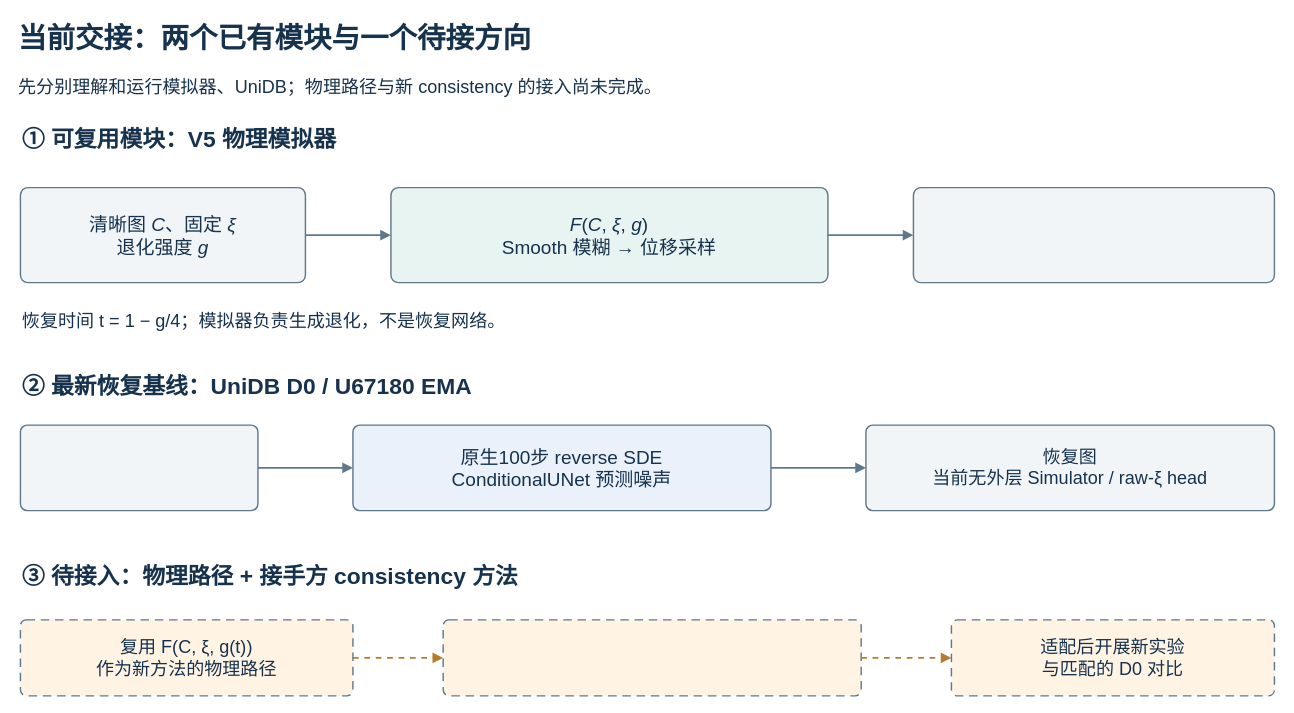
The diagram is 1294 pixels wide and 713 high, and some of its shapes have lost their labels. Here are the shapes that lost their labels. From the top down, the centre of each, then its label:
At point 1093,234: "退化图 Y g 固定 ξ ，改变 g 得到物理路径".
At point 138,467: "退化图 Y 固定条件 μ = Y".
At point 651,657: "确认接手方论文与代码 时间、目标、采样器、梯度需求".
